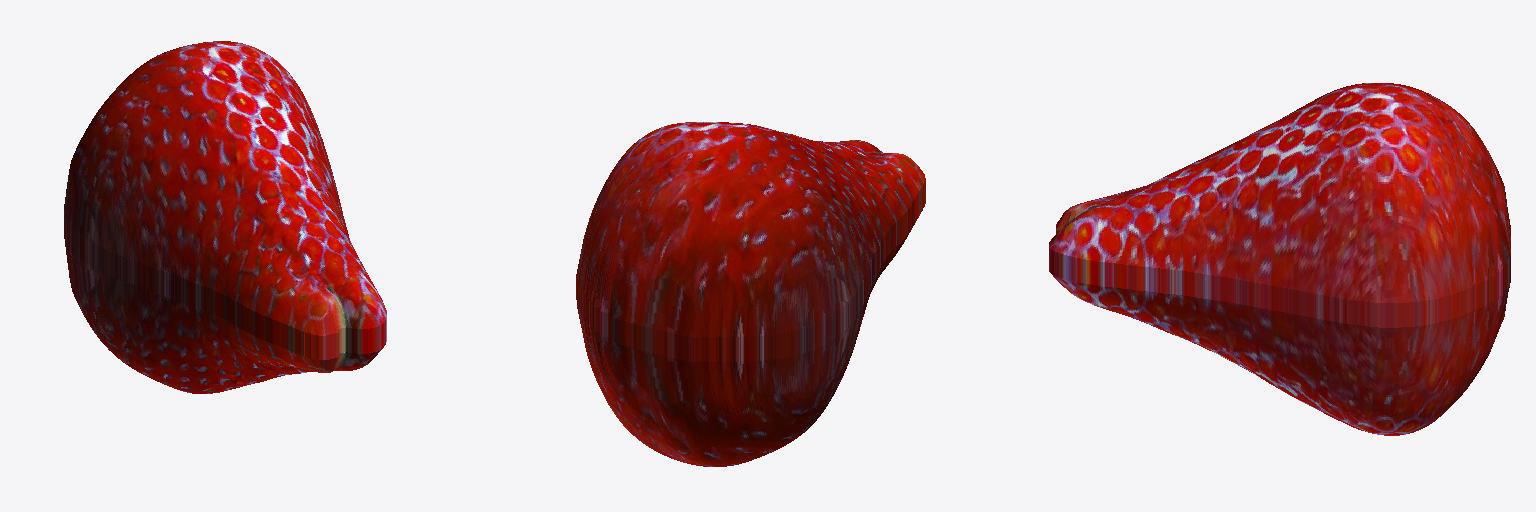
The picture shows the model from 3 angles: view 1: azimuth 30°, elevation 25°; view 2: azimuth 150°, elevation 25°; view 3: azimuth 270°, elevation 25°; orthographic projection.
Parts seen in each view (by area): view 1: Grid; view 2: Grid; view 3: Grid.
Part boxes in pixels (x1,y1,x2,y2): Grid: (64,41,386,393); Grid: (576,122,925,466); Grid: (1049,83,1510,435).
Bounding box in the file's own units: 1.25 × 1.6 × 2.05.
1 materials, 1 textured.